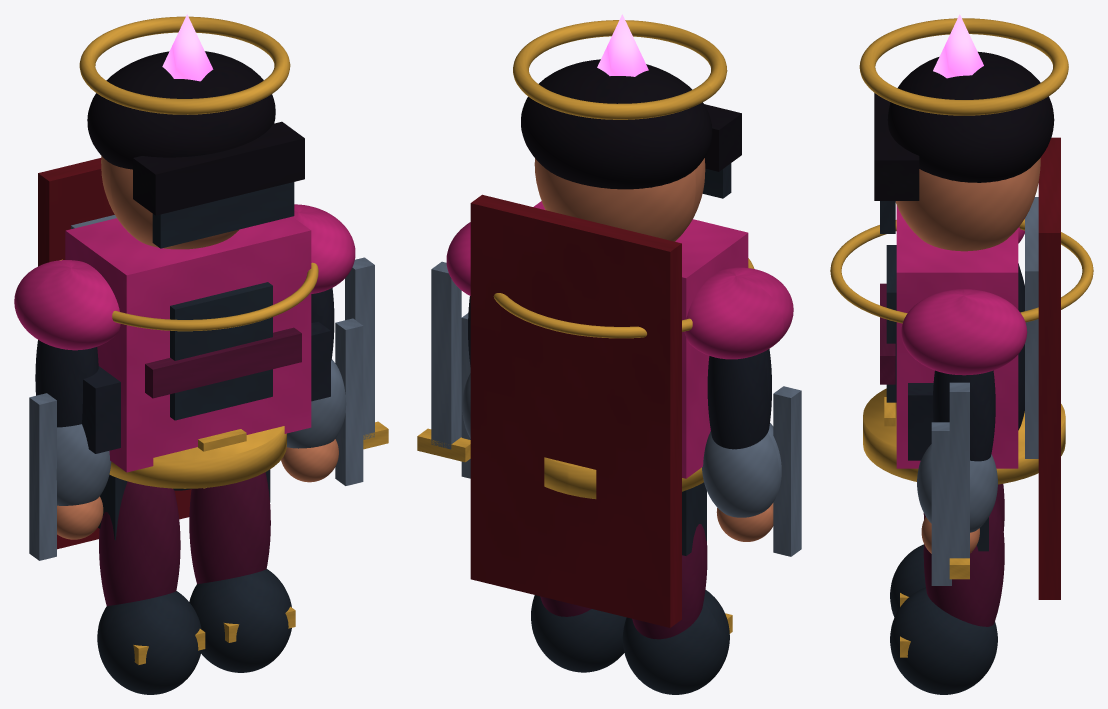
File: Mastery.glb
3 renders of one model, left to right at view 1: azimuth 30°, elevation 25°; view 2: azimuth 150°, elevation 25°; view 3: azimuth 270°, elevation 25°, orthographic. The views are drawn at different scales.
Visible parts, largest first — view 1: ChestPlate, Hair, HairFringe, Leg, Boot, Boot.001, ChestInset, Leg.001, Shoulder, CrownRing, Cape, WaistGuard (+19 smaller); view 2: Cape, Hair, Shoulder, CrownRing, Head, ChestPlate, Boot, Arm, Dagger, Gauntlet, Boot.001, DualDagger (+11 smaller); view 3: Hair, ChestPlate, Cape, Shoulder.001, Head, Boot.001, CrownRing, Leg.001, Dagger, WaistGuard, BackArmor, HairFringe (+13 smaller).
Part boxes in pixels (x1,y1,x2,y2): ChestPlate: [65, 216, 311, 472]; Hair: [87, 51, 275, 169]; HairFringe: [133, 121, 304, 215]; Leg: [99, 481, 180, 605]; Boot: [97, 591, 201, 694]; Boot.001: [189, 569, 291, 672]; ChestInset: [170, 282, 272, 420]; Leg.001: [189, 472, 270, 583]; Shoulder: [14, 260, 120, 350]; CrownRing: [79, 16, 290, 114]; Cape: [38, 158, 191, 549]; WaistGuard: [109, 426, 286, 488]; Cape: [470, 194, 681, 627]; Hair: [521, 59, 712, 189]; Shoulder: [684, 267, 793, 359]; CrownRing: [513, 20, 727, 119]; Head: [534, 158, 705, 241]; ChestPlate: [533, 201, 748, 478]; Boot: [622, 589, 729, 694]; Arm: [707, 349, 771, 449]; Dagger: [431, 261, 461, 449]; Gauntlet: [702, 423, 781, 517]; Boot.001: [531, 595, 626, 672]; DualDagger: [773, 386, 801, 556]; Hair: [887, 51, 1054, 182]; ChestPlate: [896, 205, 1018, 468]; Cape: [1038, 137, 1060, 599]; Shoulder.001: [901, 289, 1027, 375]; Head: [895, 158, 1040, 251]; Boot.001: [890, 587, 997, 694]; CrownRing: [859, 18, 1068, 115]; Leg.001: [923, 494, 1004, 626]; Dagger: [949, 382, 969, 558]; WaistGuard: [863, 388, 1065, 484]; BackArmor: [1025, 197, 1038, 458]; HairFringe: [874, 93, 919, 200].
Size of the model in its own units: 1.82 by 3.21 by 1.17.
12 materials, 9 textured.
